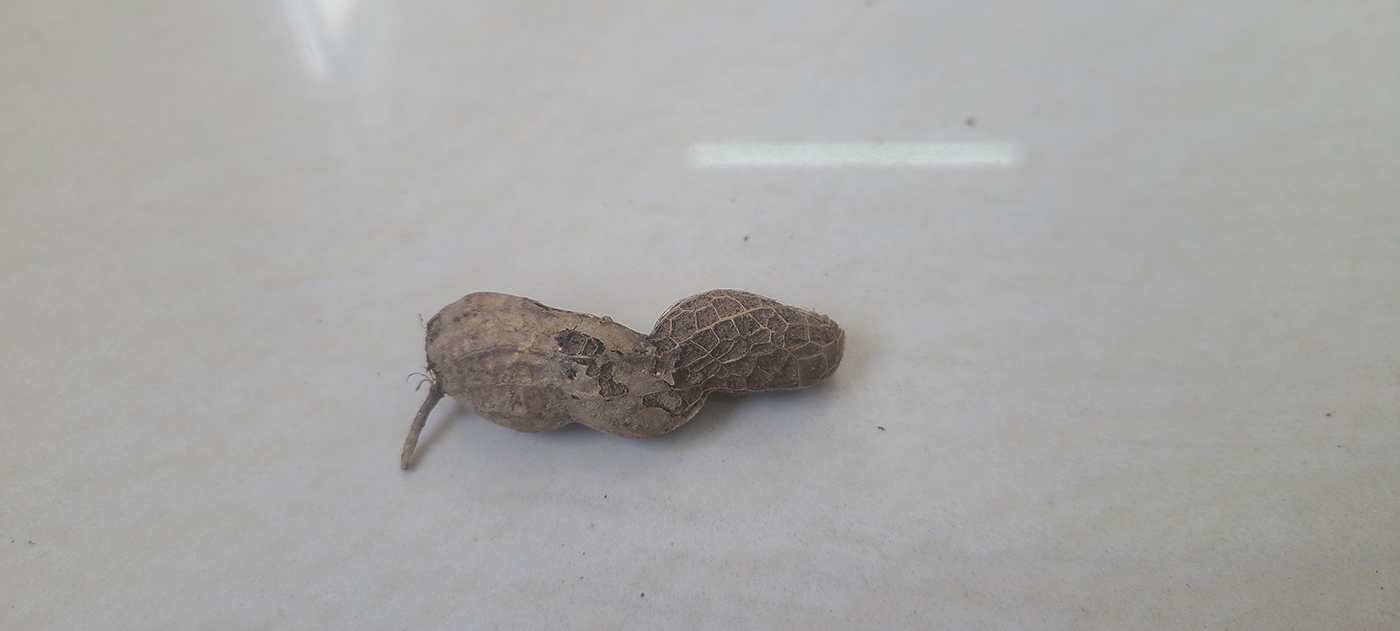l: (398, 288, 848, 469)
